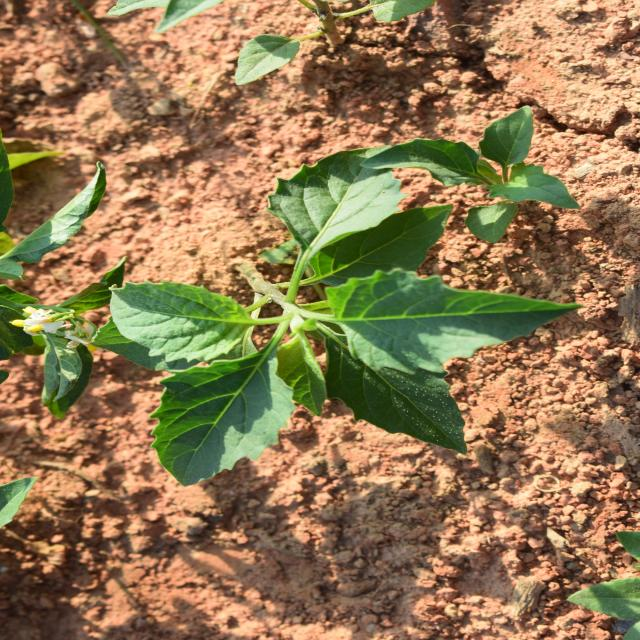Black_nightshade: (171, 78, 473, 553), (428, 365, 527, 576)
